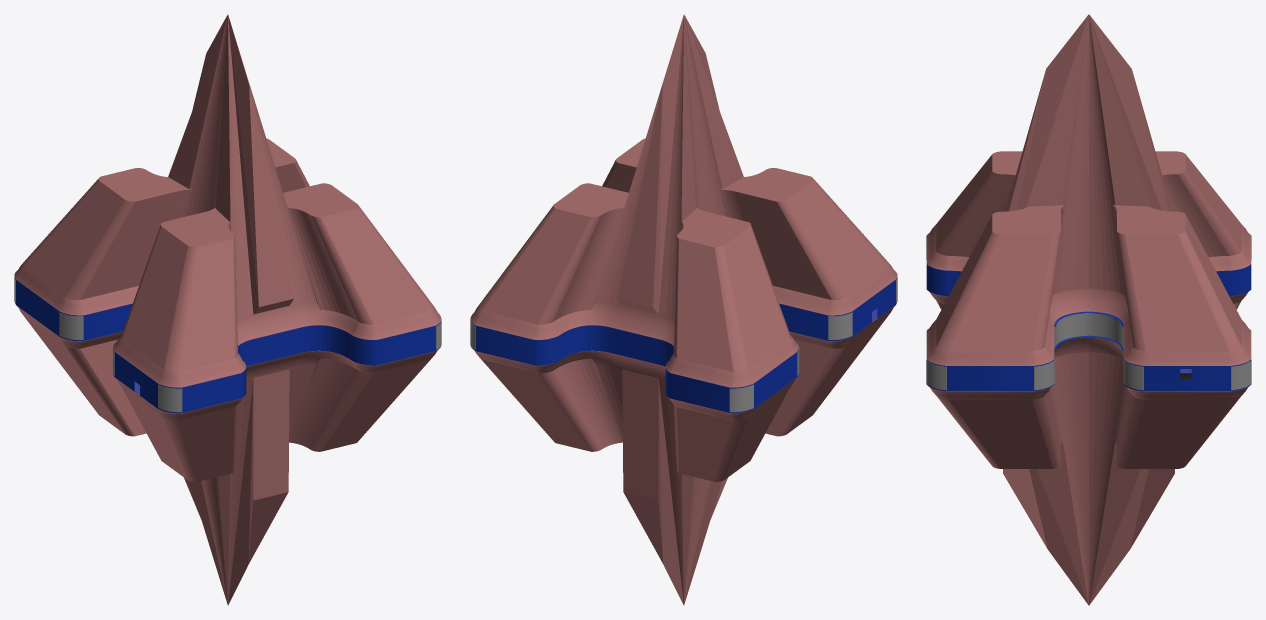
File: SS Module 9.FBX
3 renders of one model, left to right at view 1: azimuth 30°, elevation 25°; view 2: azimuth 150°, elevation 25°; view 3: azimuth 270°, elevation 25°, orthographic.
Visible parts, largest first — view 1: Plane072; view 2: Plane072; view 3: Plane072.
Boxes of the visible parts, x1,y1,x2,y2 form: Plane072: [14, 14, 441, 605]; Plane072: [470, 14, 897, 605]; Plane072: [926, 14, 1251, 605].
Bounding box in the file's own units: 115 × 231 × 115.
